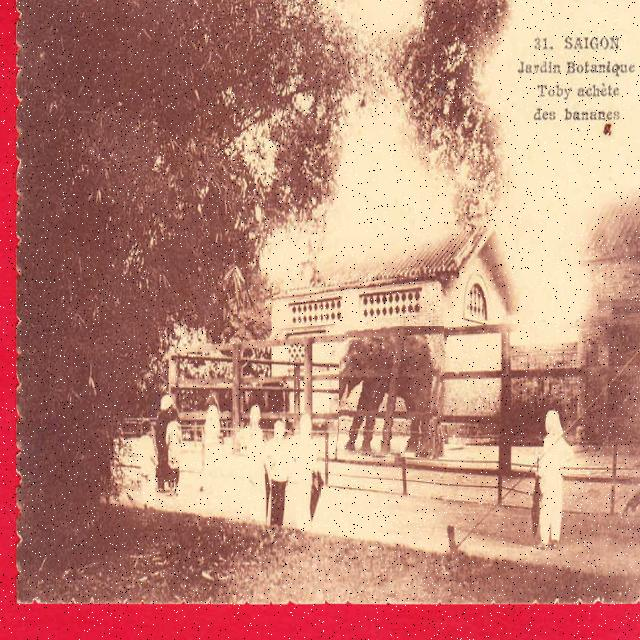elephant: (339, 326, 445, 458)
